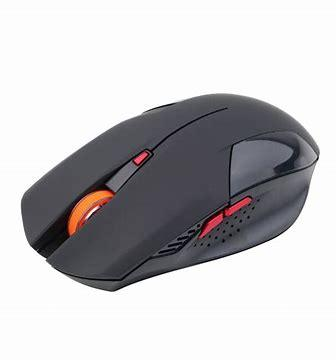computer mouse: (20, 93, 321, 293)
